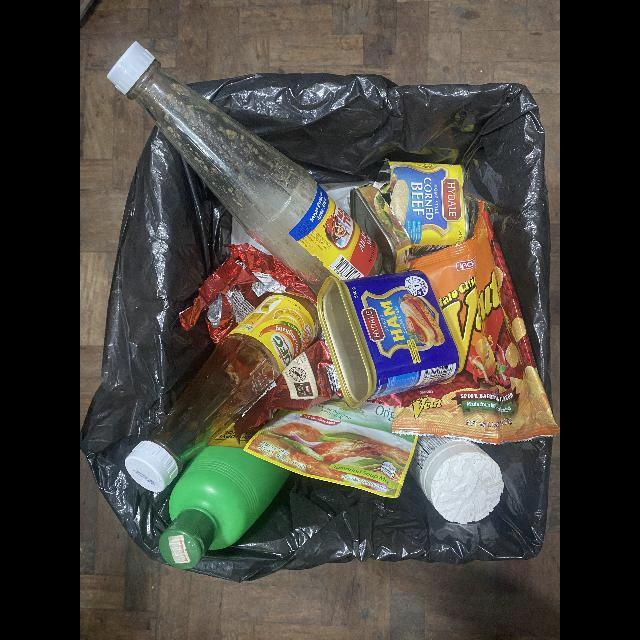aluminum: (316, 270, 460, 408), (350, 161, 470, 274)
food_wrapper: (374, 200, 560, 445), (243, 400, 419, 499), (179, 243, 317, 345), (233, 340, 343, 444)
glass_bottle: (107, 42, 381, 296), (125, 294, 319, 493)
plastic_bottle: (158, 423, 290, 570), (409, 435, 504, 524)
